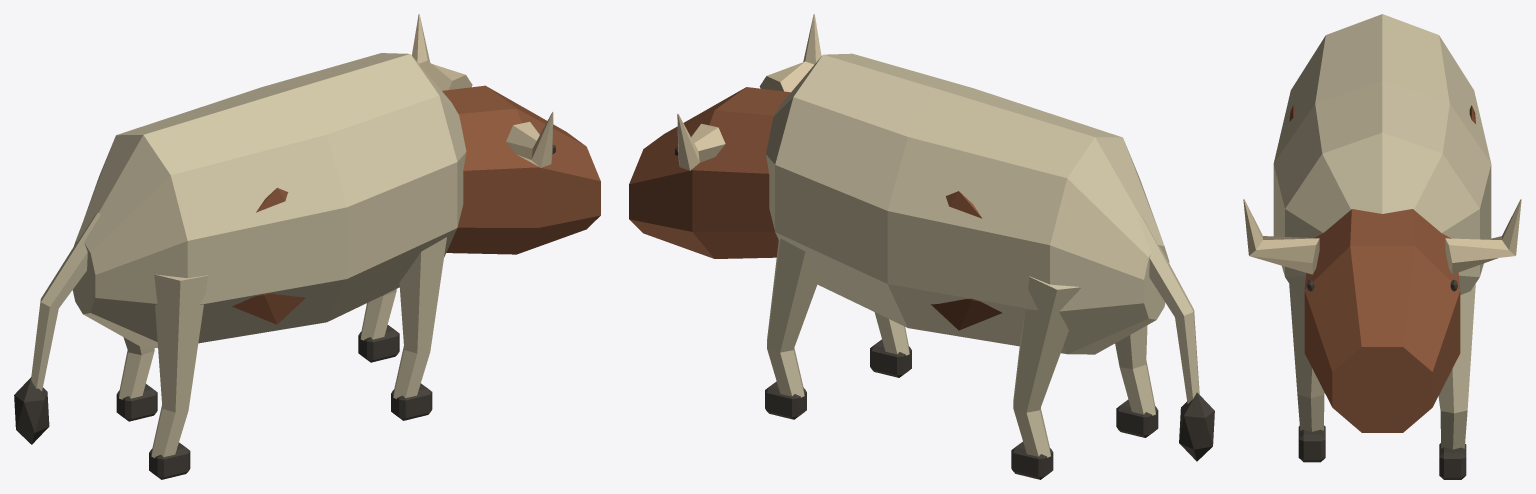
Rendered from cattle.glb.
3 renders of one model, left to right at view 1: azimuth 30°, elevation 25°; view 2: azimuth 150°, elevation 25°; view 3: azimuth 270°, elevation 25°, orthographic. The views are drawn at different scales.
Visible parts, largest first — view 1: Sculpted silhouette, Sculpted silhouette.001, Tapered form, Tapered form.002, Tapered form.006, Icosphere.002, Icosphere, Tapered form.004, Tapered form.001, Tapered form.005, Tapered form.003, Cube.003 (+3 smaller); view 2: Sculpted silhouette, Sculpted silhouette.001, Tapered form.001, Tapered form.003, Tapered form.006, Tapered form, Icosphere.002, Icosphere.001, Tapered form.005, Tapered form.004, Cube, Cube.001 (+3 smaller); view 3: Sculpted silhouette, Sculpted silhouette.001, Tapered form.003, Tapered form.002, Tapered form.004, Tapered form.005, Cube.002, Cube.003.
Part boxes in pixels (<box>): Sculpted silhouette: <box>72,53,466,348</box>; Sculpted silhouette.001: <box>442,85,600,254</box>; Tapered form: <box>151,274,207,457</box>; Tapered form.002: <box>393,237,446,398</box>; Tapered form.006: <box>31,212,100,391</box>; Icosphere.002: <box>14,377,49,444</box>; Icosphere: <box>232,188,305,324</box>; Tapered form.004: <box>506,111,553,167</box>; Tapered form.001: <box>119,337,154,399</box>; Tapered form.005: <box>412,14,472,90</box>; Tapered form.003: <box>360,289,396,340</box>; Cube.003: <box>358,325,399,362</box>; Sculpted silhouette: <box>766,53,1169,354</box>; Sculpted silhouette.001: <box>629,87,790,258</box>; Tapered form.001: <box>1013,276,1081,457</box>; Tapered form.003: <box>767,238,818,397</box>; Tapered form.006: <box>1138,216,1199,403</box>; Tapered form: <box>1115,325,1155,415</box>; Icosphere.002: <box>1179,392,1214,461</box>; Icosphere.001: <box>931,191,1001,330</box>; Tapered form.005: <box>677,113,725,170</box>; Tapered form.004: <box>759,14,821,92</box>; Cube: <box>1116,399,1158,437</box>; Cube.001: <box>1011,442,1053,479</box>; Sculpted silhouette: <box>1273,14,1491,305</box>; Sculpted silhouette.001: <box>1304,209,1460,432</box>; Tapered form.003: <box>1438,284,1475,449</box>; Tapered form.002: <box>1289,284,1324,431</box>; Tapered form.004: <box>1243,199,1319,274</box>; Tapered form.005: <box>1445,199,1521,274</box>; Cube.002: <box>1298,425,1325,462</box>; Cube.003: <box>1439,443,1466,479</box>.
Bounding box in the file's own units: 1.1 × 0.6224 × 0.4617.
